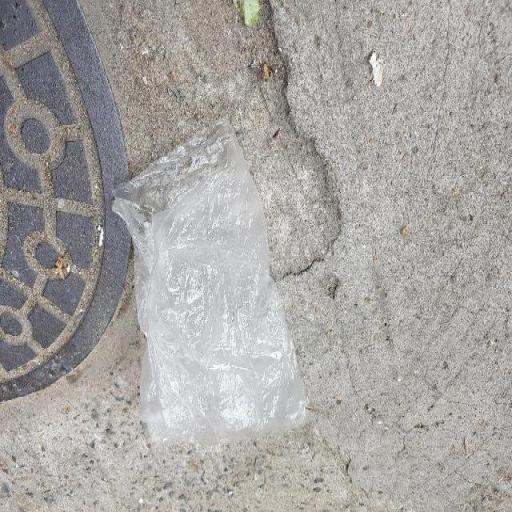plastic-bag: (108, 121, 318, 455)
